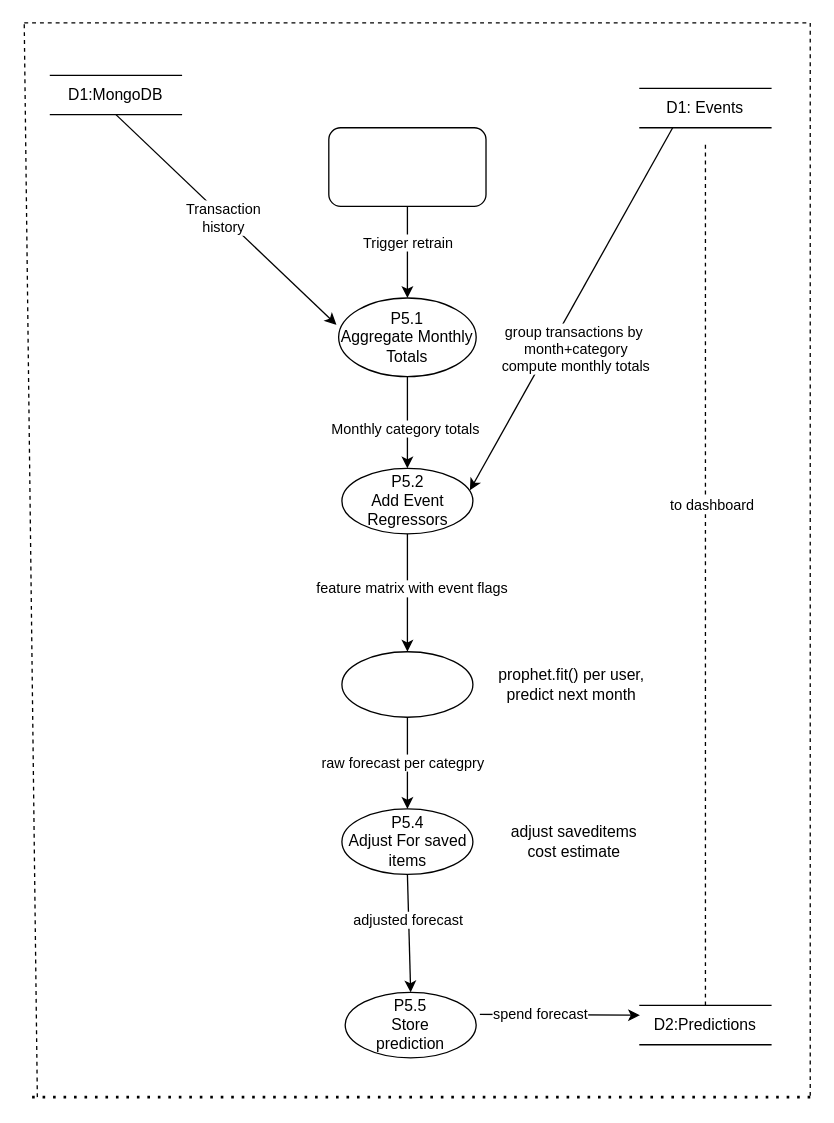
Some shapes in this 834 by 1123 pixel diagram are drawn without their labels. Each missing label, with the centre of its shape:
P4:Cron Schedular: (407,166)
P5.3 Fit Prophet Model: (407,683)
